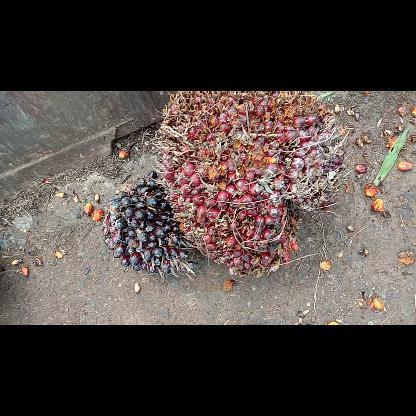TBS abnormal: (102, 168, 198, 276)
TBS masak: (152, 91, 346, 277)
